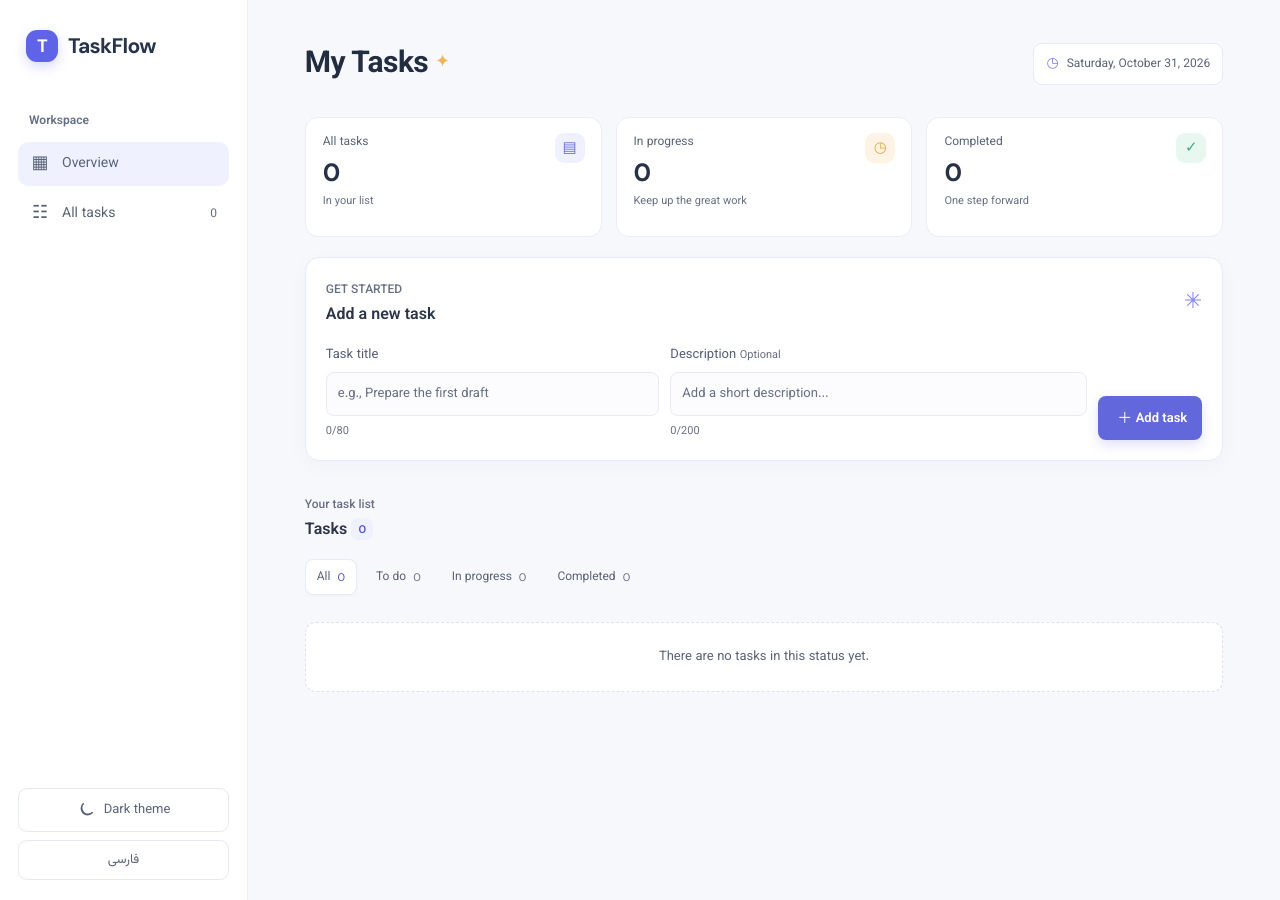
Test case: TaskFlow dashboard › adds a task and persists it to local storage
Type "  نوشتن تست  " into the field with placeholder "e.g., Prepare the first draft". click: (493, 394)
box: [326,372,659,416]
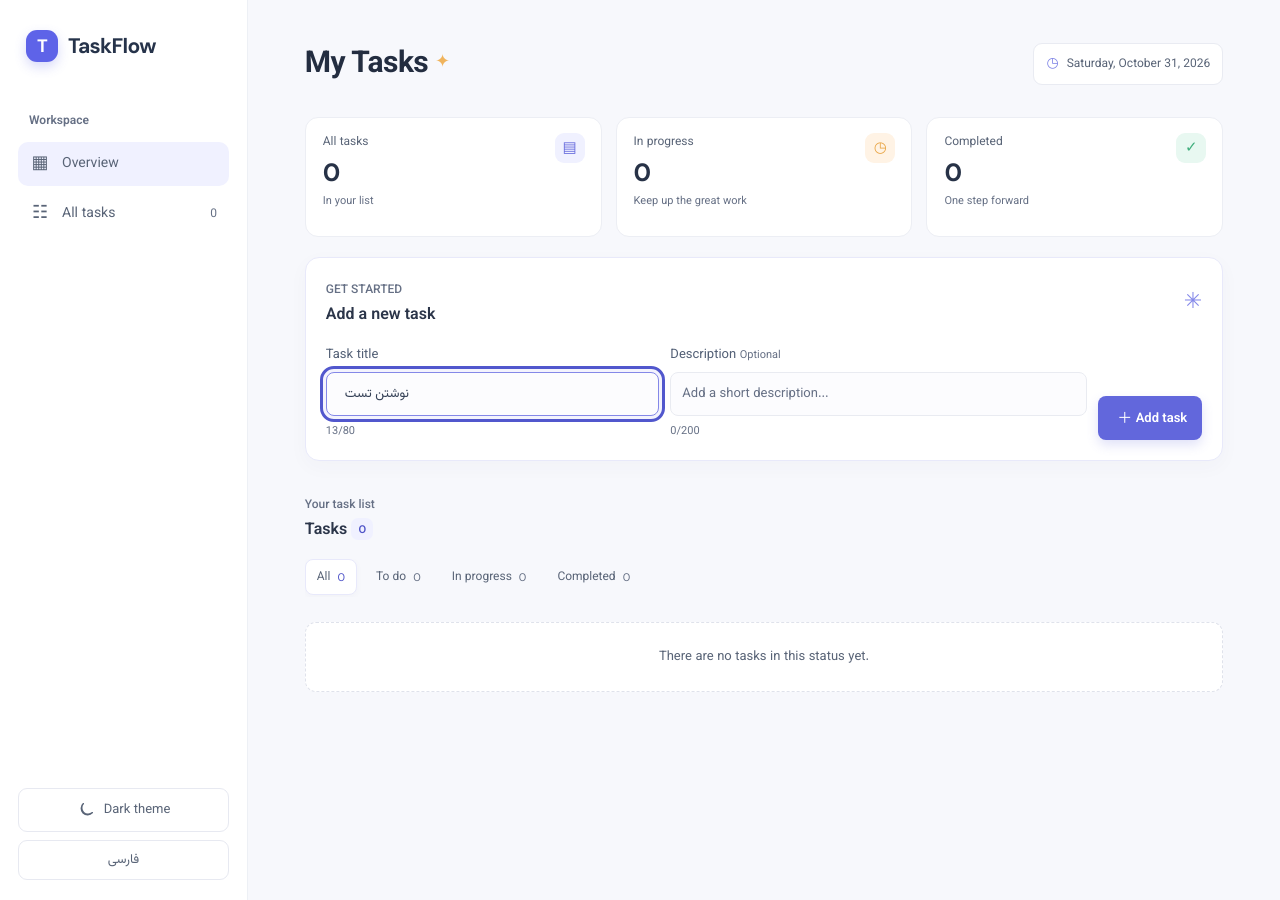
Type "توضیح تست" into the field with placeholder "Add a short description...". click: (879, 394)
box: [670,372,1087,416]
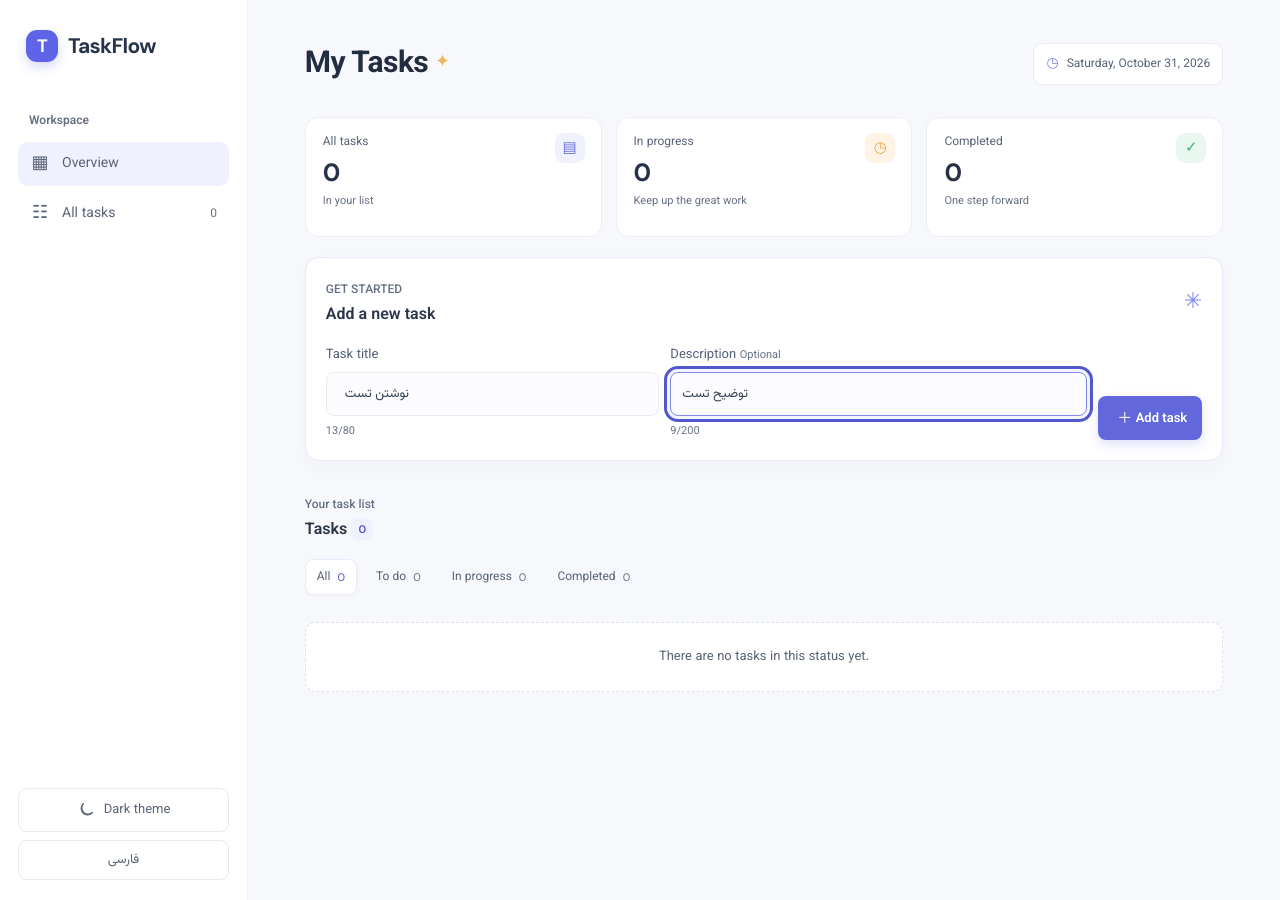
Click the button "＋ Add task". click: (1150, 418)
box: [1098,396,1202,440]
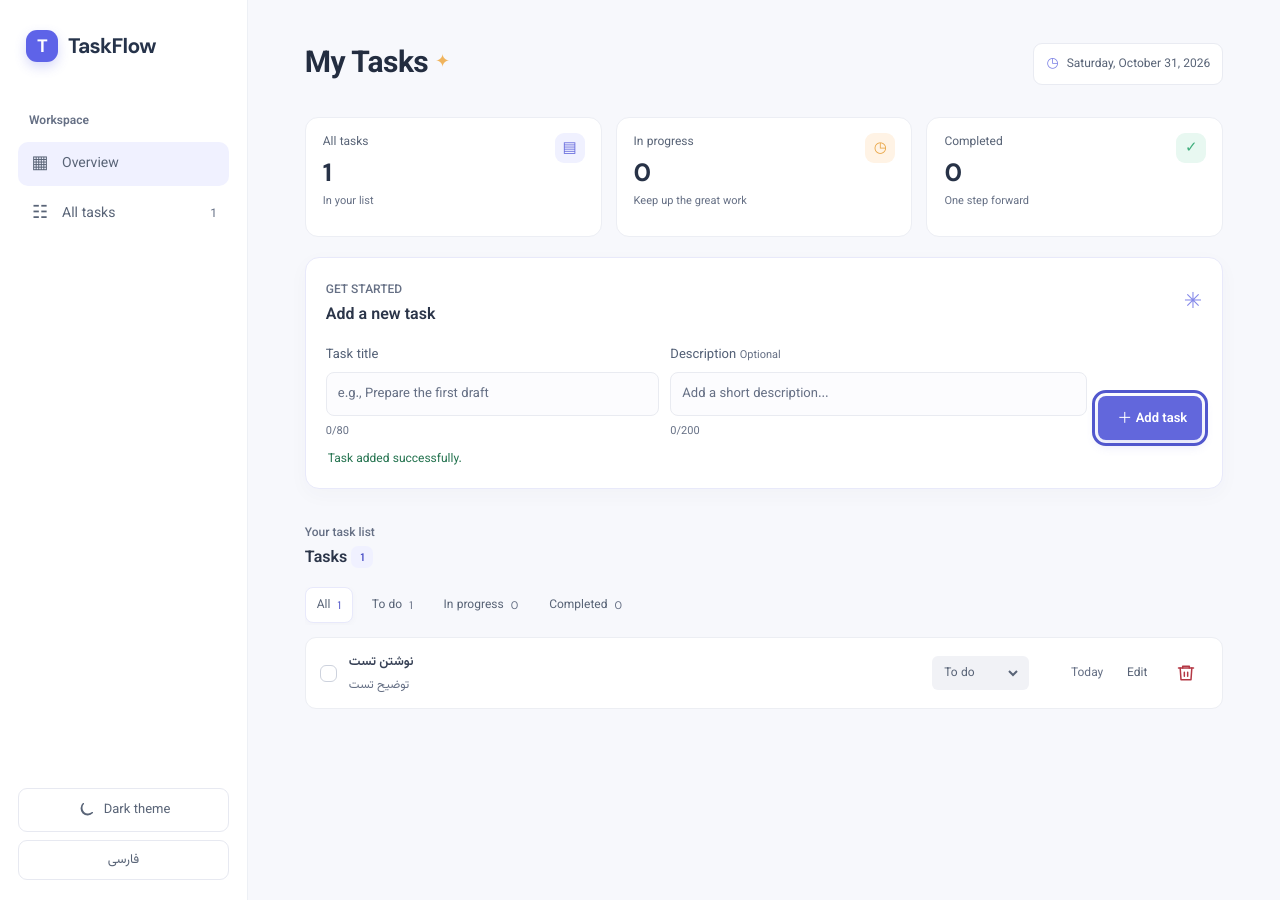
Result: the heading "نوشتن تست" is shown at [349,652,414,672]
Result: the text "توضیح تست" is shown at [349,676,409,694]
